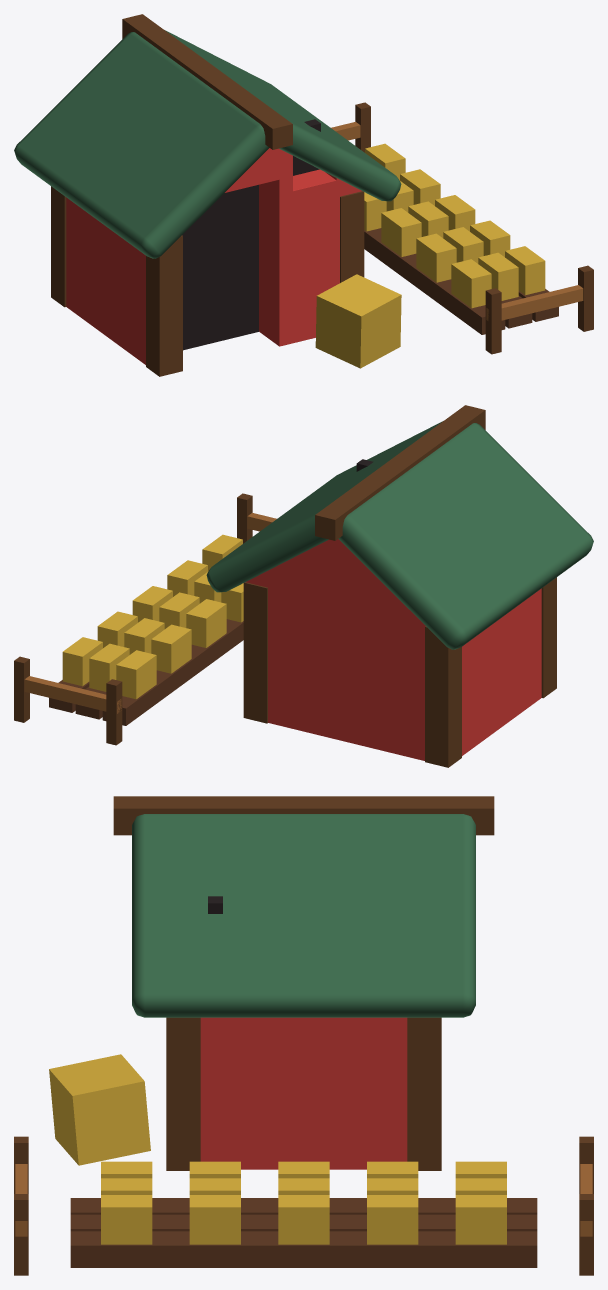
File: Buildings__farm.glb
3 renders of one model, top to bottom at view 1: azimuth 30°, elevation 25°; view 2: azimuth 150°, elevation 25°; view 3: azimuth 270°, elevation 25°, orthographic. The views are drawn at different scales.
Parts seen in each view (by area): view 1: farm_mesh; view 2: farm_mesh; view 3: farm_mesh.
Part boxes in pixels (box(x1,y1,x2,y2)): farm_mesh: box(14, 14, 593, 376); farm_mesh: box(14, 405, 593, 767); farm_mesh: box(14, 796, 593, 1275).
Size of the model in its own units: 2.39 by 1.37 by 2.36.
